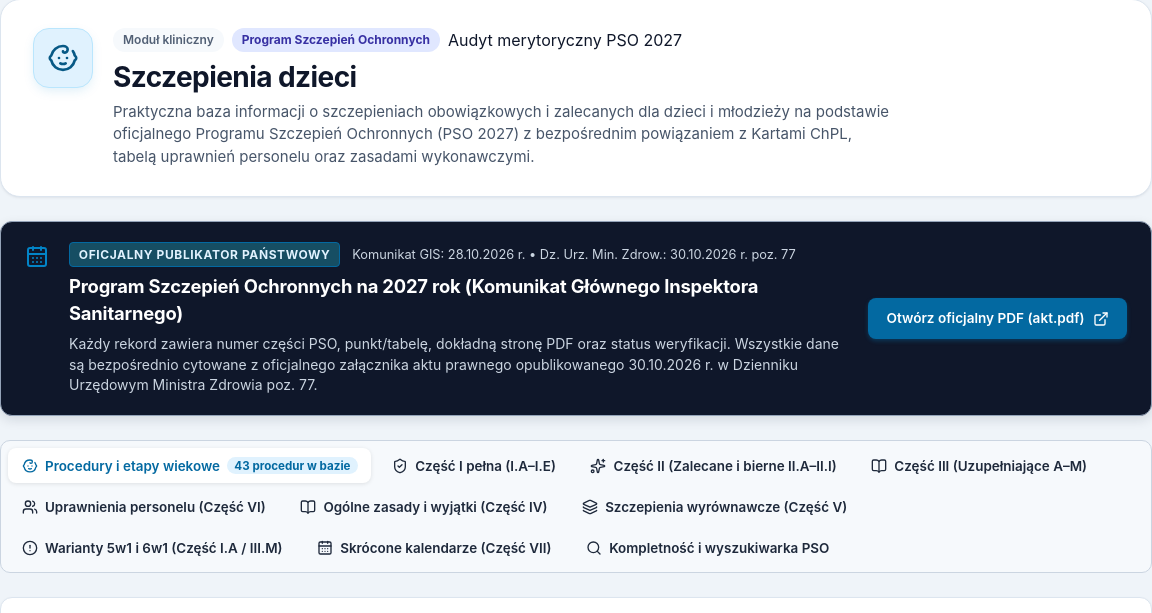
Test: MASTER 15 — Integracja UI 7 części PSO 2027 w widokach VaxNurse › MASTER 16: poprawne zakresy stron I.B/II.F/II.G, brak syntetycznych Uwagi PSO oraz jawne rozdzielenie statusu ChPL
The width and height of the screenshot is (1152, 613).
Click the tab "Część I pełna (I.A–I.E)" at (474,466), box x1=378 y1=448 x2=570 y2=483
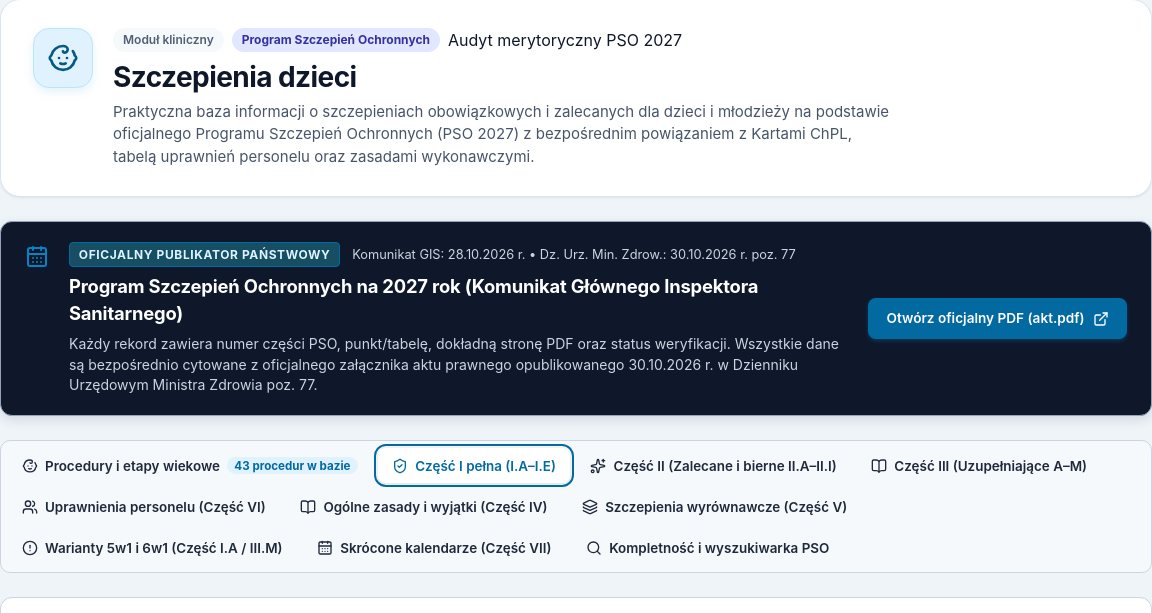
Click the tab "Część II (Zalecane i bierne II.A–II.I)" at (714,466), box x1=577 y1=448 x2=850 y2=483
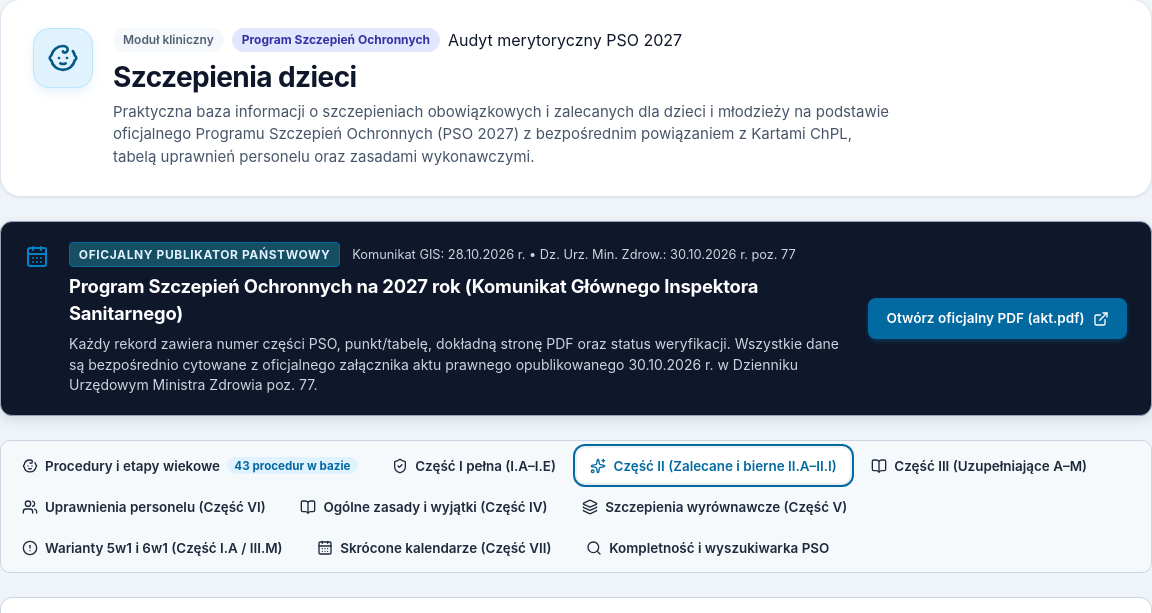
Click the tab "Kompletność i wyszukiwarka PSO" at (708,548), box x1=572 y1=531 x2=843 y2=565
(page scrolled)
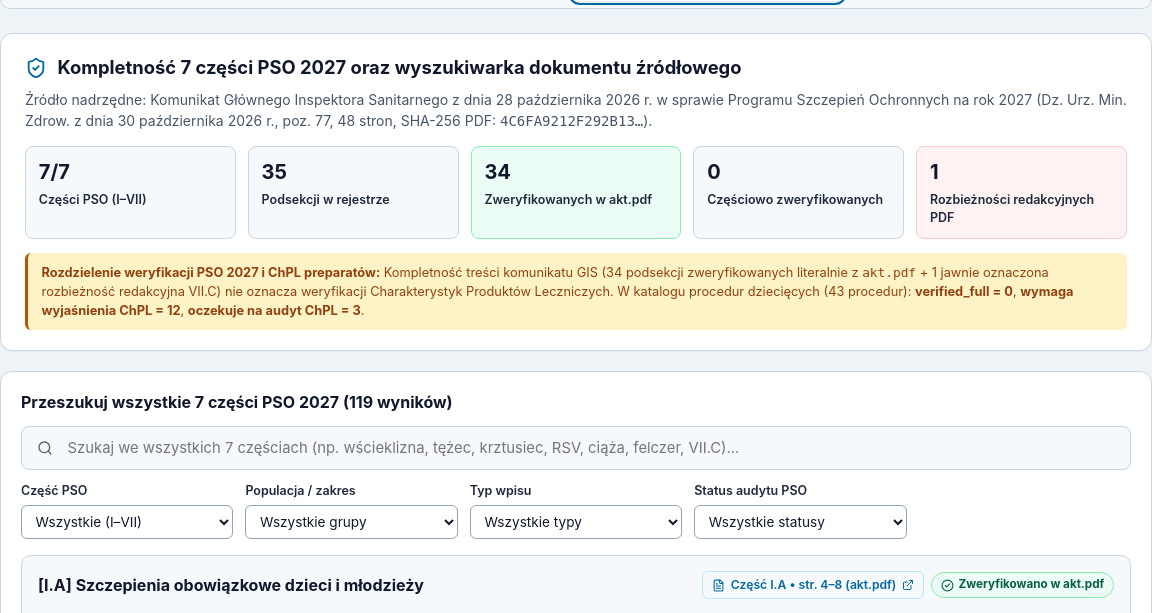
Check: the text "Rozdzielenie weryfikacji PSO 2027 i ChPL preparatów:" is shown, box x1=42 y1=265 x2=380 y2=280
Check: the text "verified_full = 0" is shown, box x1=915 y1=284 x2=1013 y2=299
Check: the text "wymaga wyjaśnienia ChPL = 12" is shown, box x1=42 y1=284 x2=1073 y2=318
